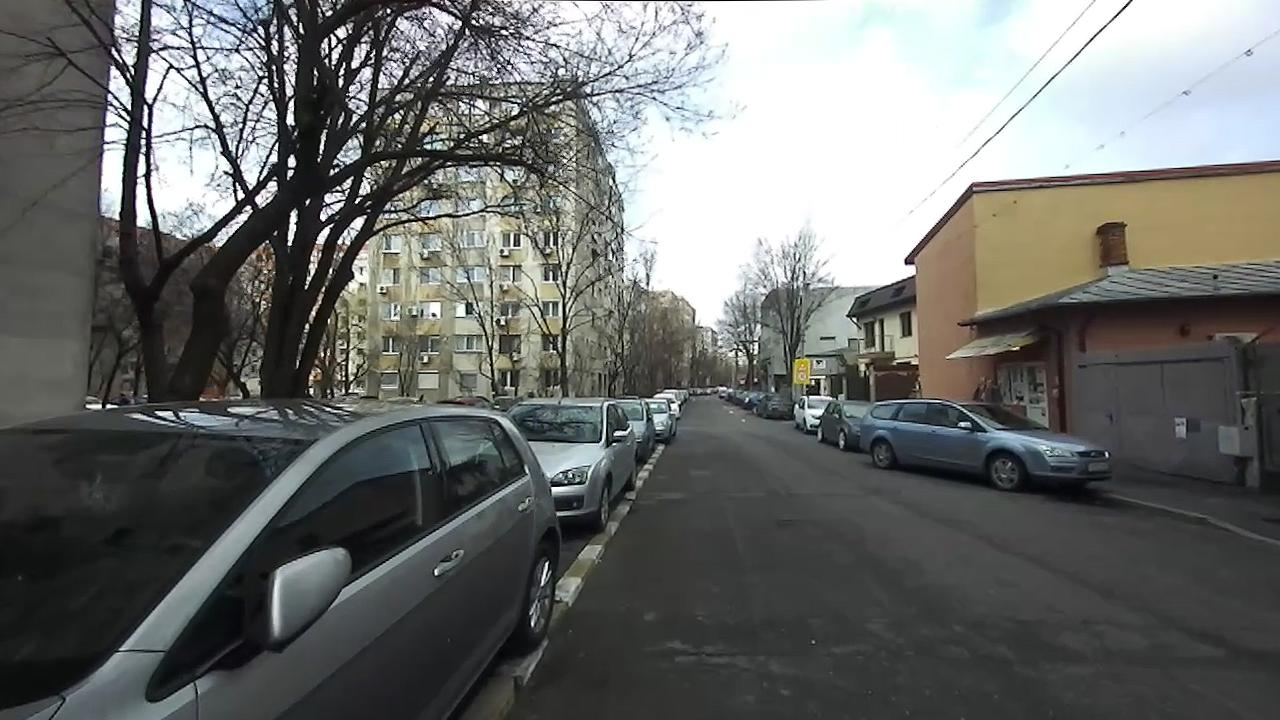pothole: (659, 636, 790, 675), (777, 513, 803, 530)
